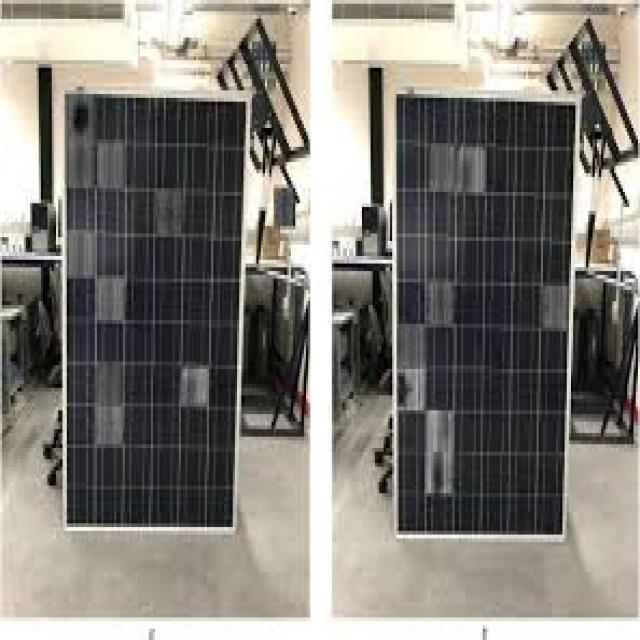faulty: (397, 84, 570, 540), (61, 78, 236, 521)
